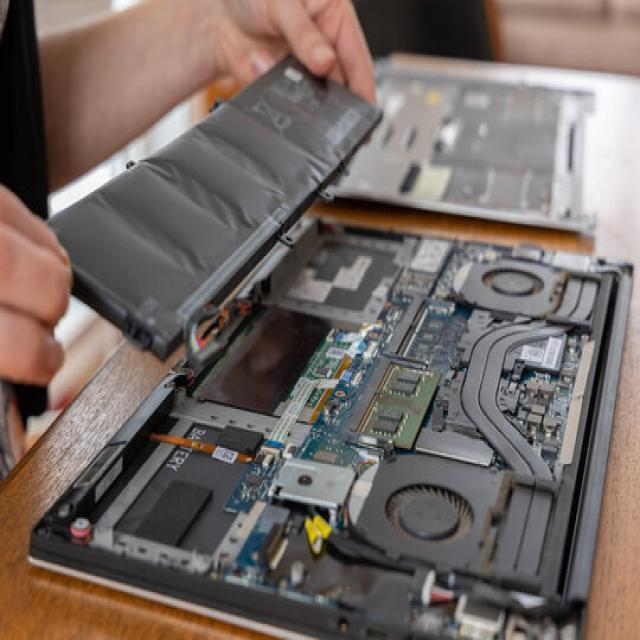NIC: (32, 3, 393, 364)
SSD: (414, 228, 458, 284)
